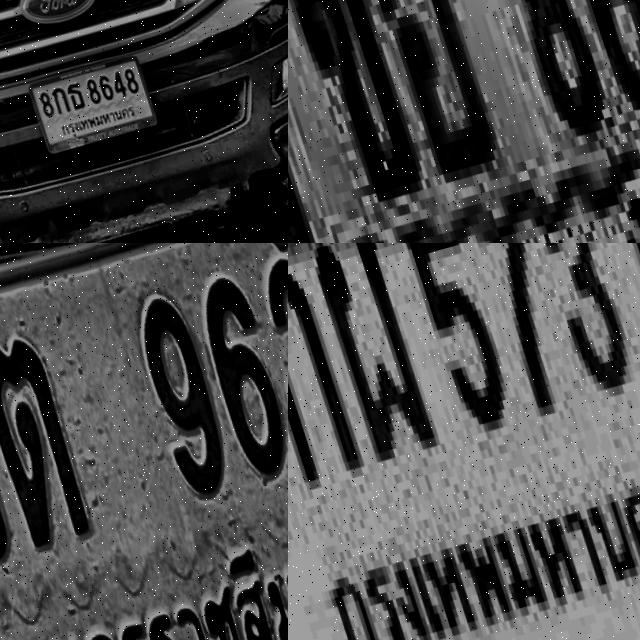license-plate: (288, 243, 640, 640), (0, 243, 288, 640), (288, 0, 640, 243), (11, 49, 156, 163)
